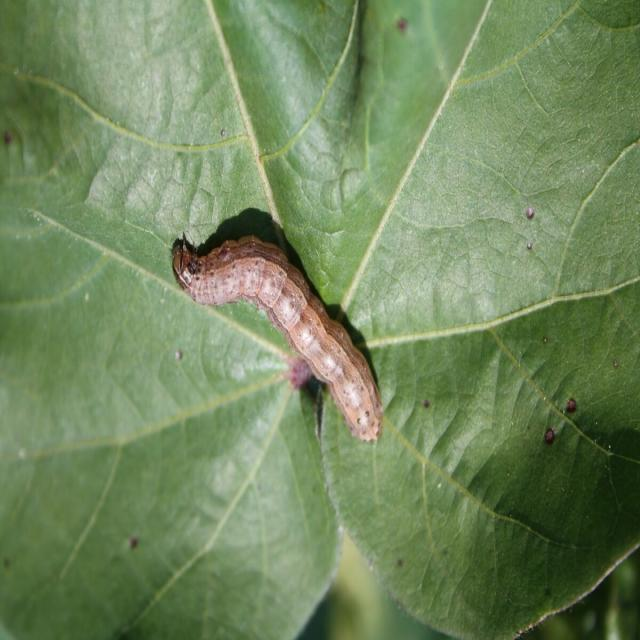armyworm: (170, 230, 384, 444)
